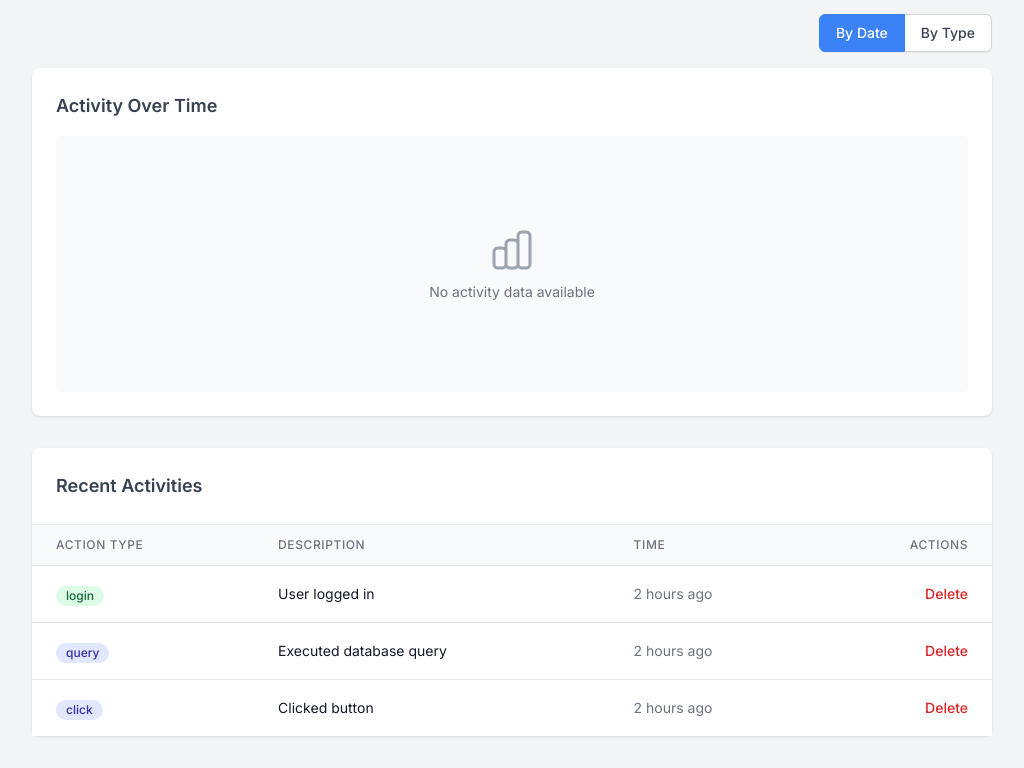
Test: Dashboard Page › Activity detail modal › clicking activity opens detail modal
The image size is (1024, 768).
(page scrolled)
Click the row "login User logged in 2 hours ago Delete".
click(80, 596)  # box [32, 566, 992, 622]
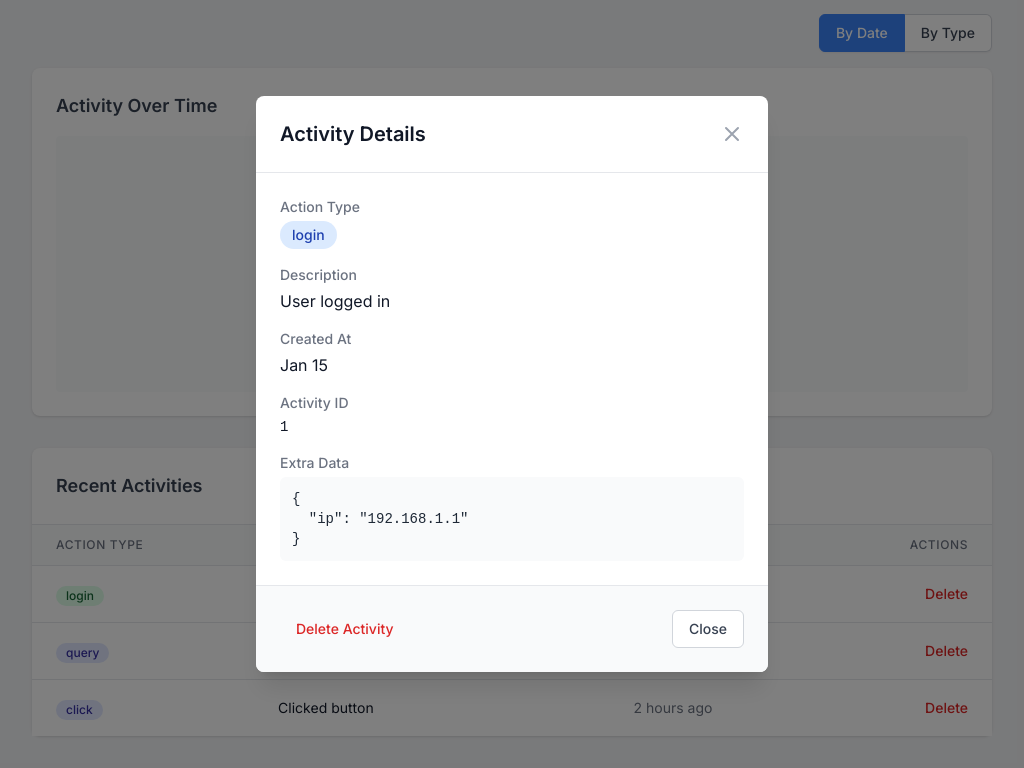
Result: the heading "Activity Details" is shown at [280, 120, 426, 148]
